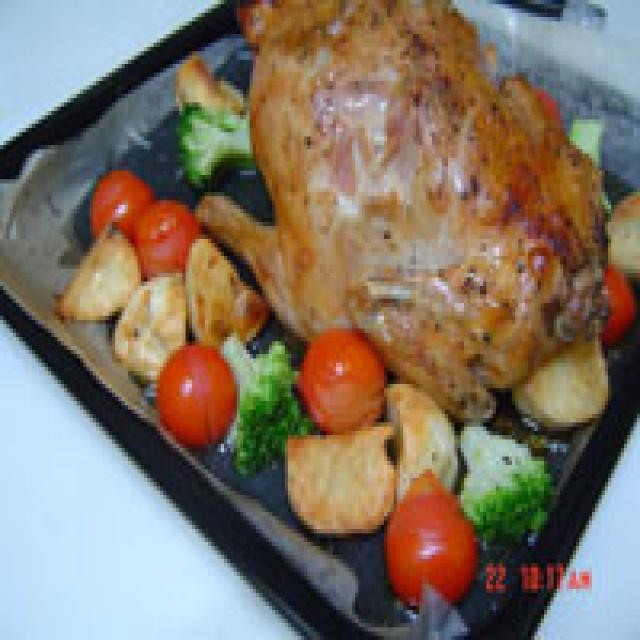Chicken: (191, 0, 620, 428)
